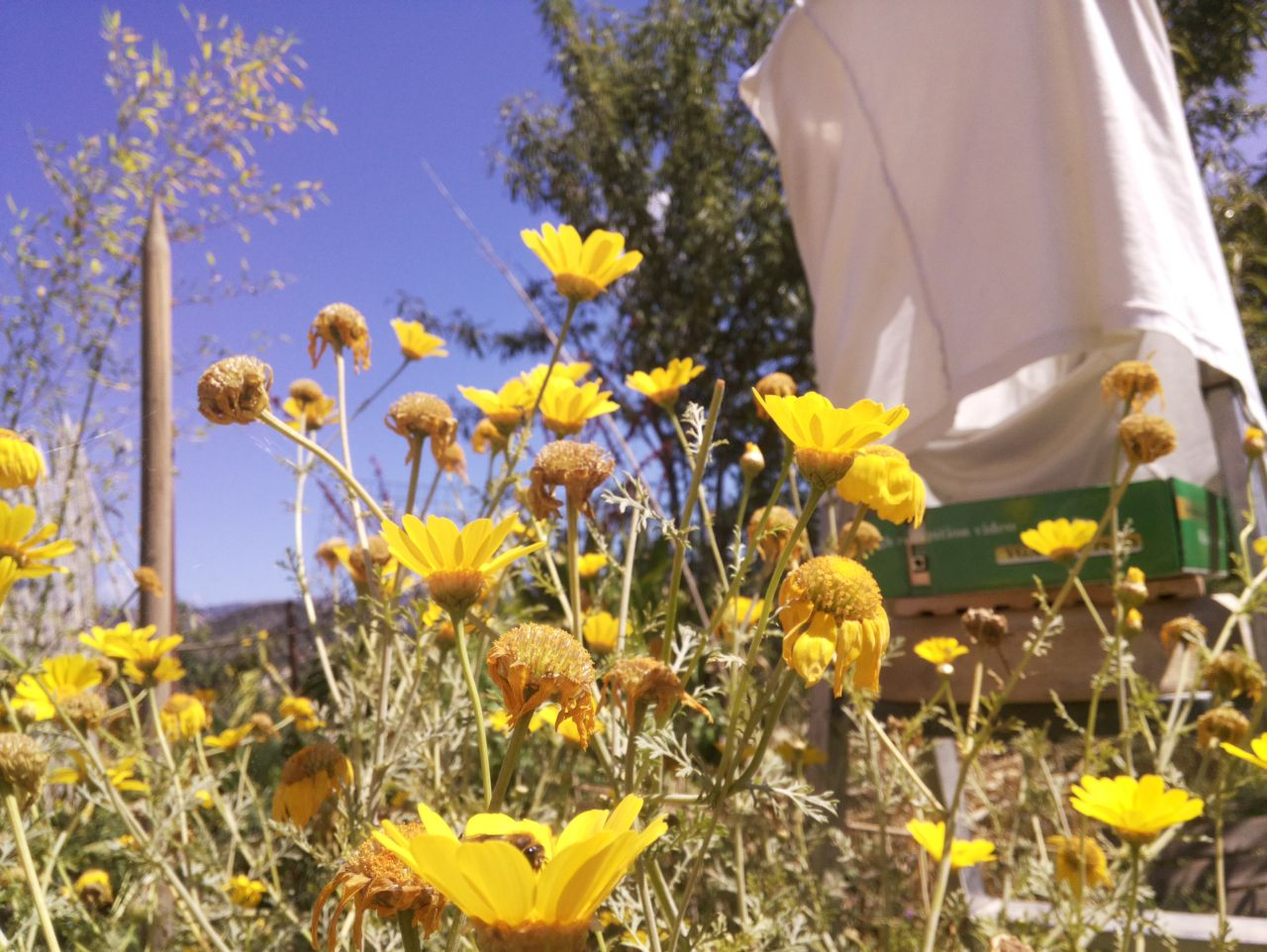bee: (450, 816, 553, 886)
